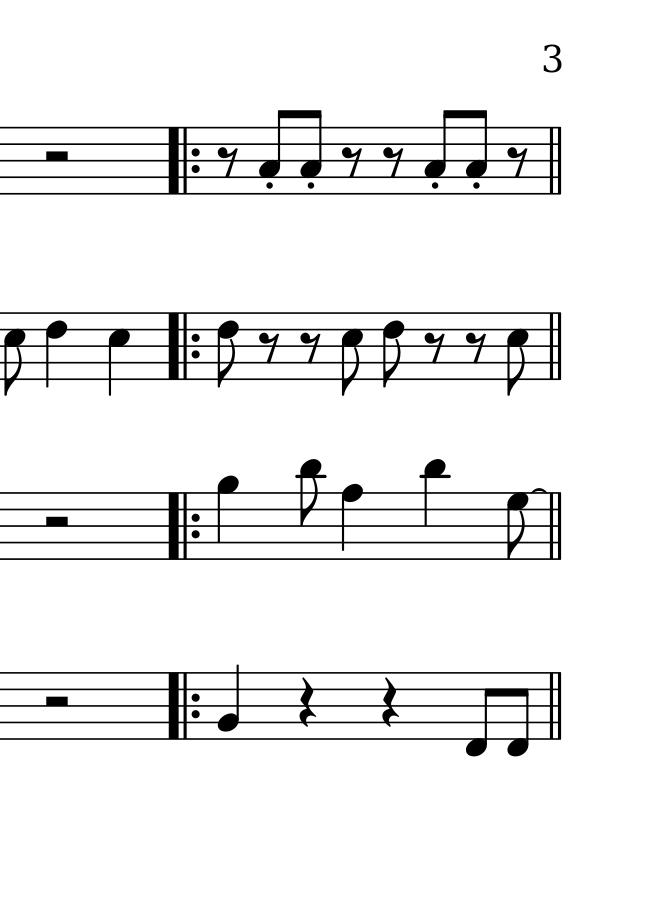3: (542, 42, 564, 74)
4_2: (217, 663, 242, 743)
4_5: (105, 311, 131, 398)
4_6: (43, 310, 68, 389)
4_8: (339, 482, 364, 562)
4_9: (214, 474, 240, 562)
8_-1: (463, 670, 495, 758), (505, 670, 531, 759)
8_11: (420, 456, 448, 563), (296, 456, 324, 562)
8_3: (257, 108, 289, 196), (423, 109, 454, 196), (298, 108, 324, 196), (464, 108, 489, 196)
8_5: (504, 310, 530, 397), (1, 311, 26, 396), (339, 311, 364, 396)
8_6: (214, 311, 241, 388), (380, 311, 406, 388)
8_7: (504, 491, 530, 562)
Double_barline: (544, 489, 566, 558), (545, 126, 566, 193)
LeftRepeatSign: (164, 670, 202, 741), (164, 310, 201, 382), (167, 491, 203, 560), (166, 127, 201, 196)
Rests2: (40, 693, 75, 714), (42, 513, 74, 533), (41, 148, 74, 167)
Rests4: (296, 676, 317, 730), (379, 676, 400, 730)
Rests8: (506, 144, 530, 179), (216, 145, 239, 179), (340, 144, 363, 178), (381, 144, 404, 178), (258, 330, 281, 364), (464, 330, 487, 364), (424, 329, 446, 364), (299, 330, 321, 363)
Slur: (545, 671, 568, 740), (545, 312, 566, 382)
